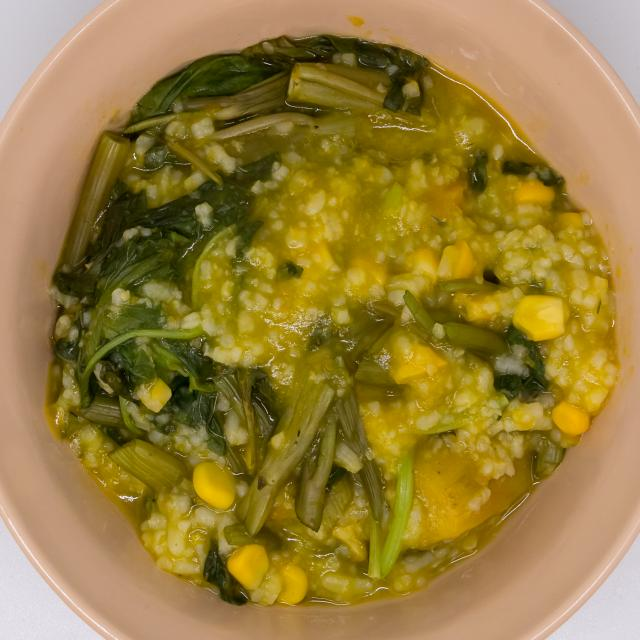Bubur-Manado: (43, 11, 626, 626)
